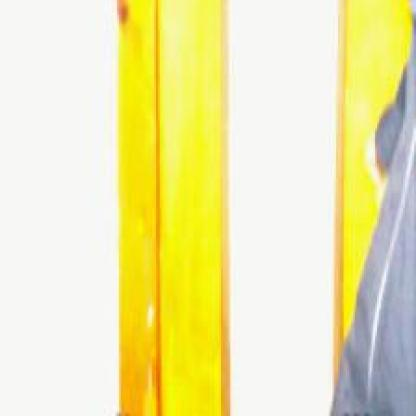other: (124, 0, 220, 405), (348, 20, 366, 254)
